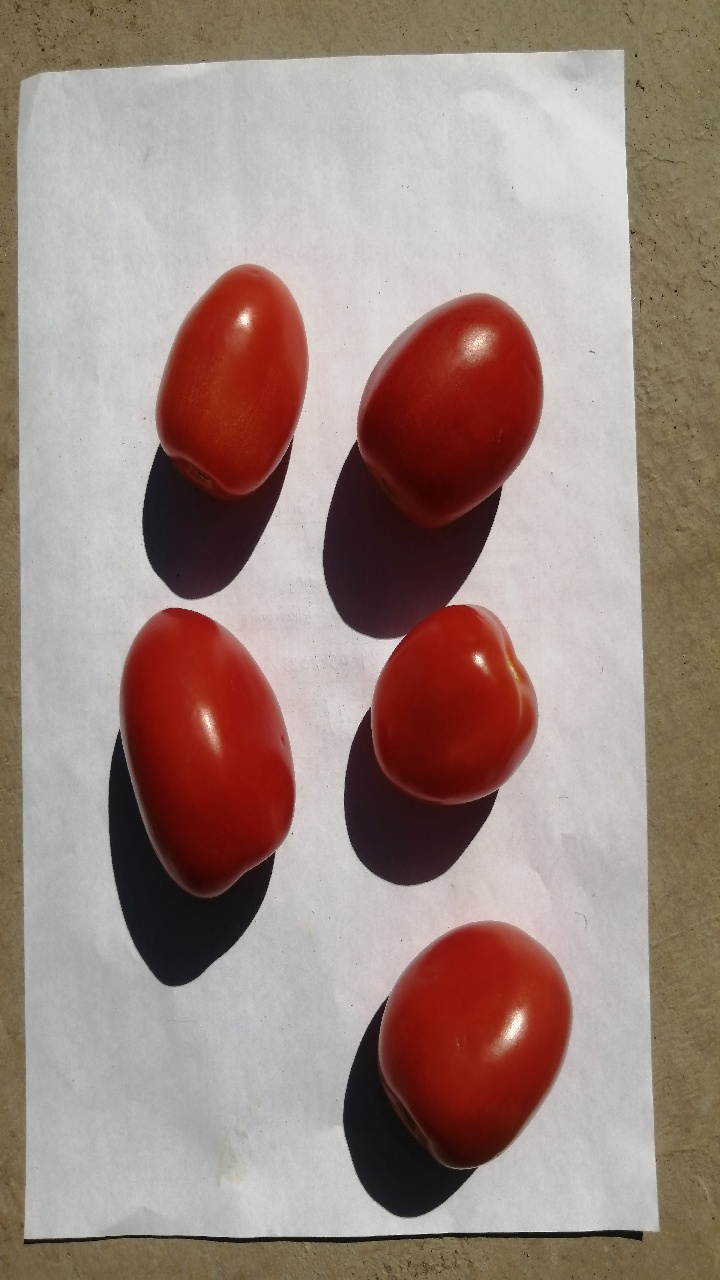tomateRojo: (88, 585, 337, 917), (352, 882, 592, 1192), (337, 569, 563, 832), (338, 280, 557, 545), (135, 234, 320, 520)
